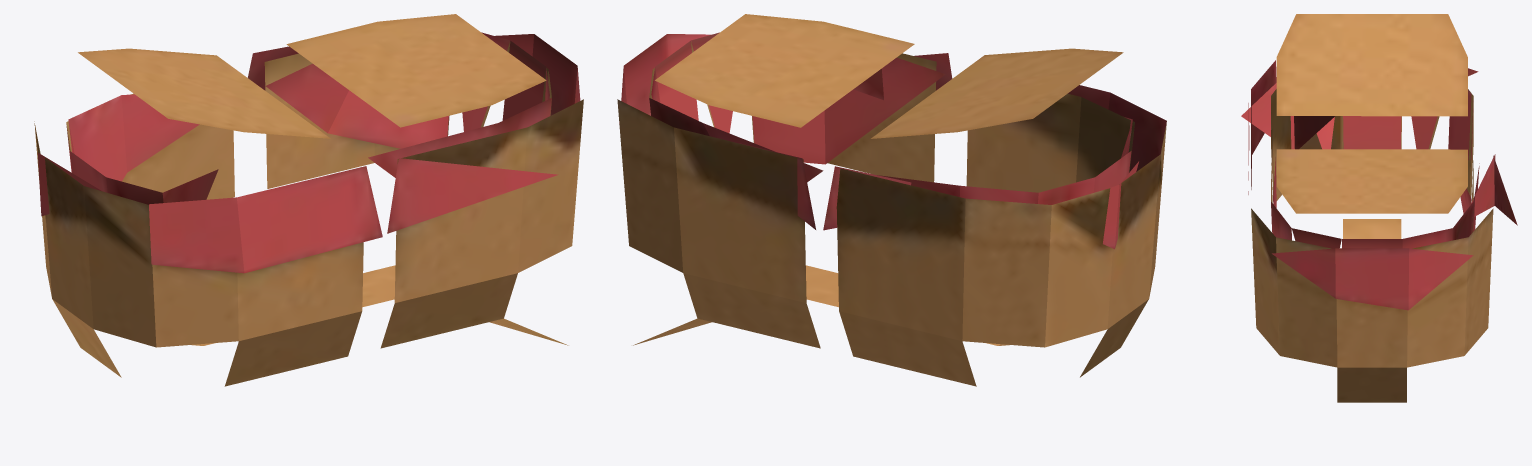
The model's file is basket.glb.
3 renders of one model, left to right at view 1: azimuth 30°, elevation 25°; view 2: azimuth 150°, elevation 25°; view 3: azimuth 270°, elevation 25°, orthographic. The views are drawn at different scales.
Visible parts, largest first — view 1: PicnicBasket_mesh; view 2: PicnicBasket_mesh; view 3: PicnicBasket_mesh.
Part boxes in pixels (left/top/right/bottom): PicnicBasket_mesh: left=34, top=14, right=583, bottom=386; PicnicBasket_mesh: left=617, top=14, right=1166, bottom=386; PicnicBasket_mesh: left=1241, top=14, right=1517, bottom=402.
Bounding box in the file's own units: 0.414 × 0.2591 × 0.2747.
1 material, 1 textured.
